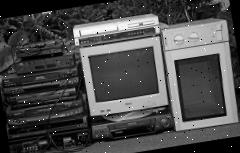electronic: (0, 30, 92, 153), (161, 14, 240, 135), (80, 32, 172, 120)
